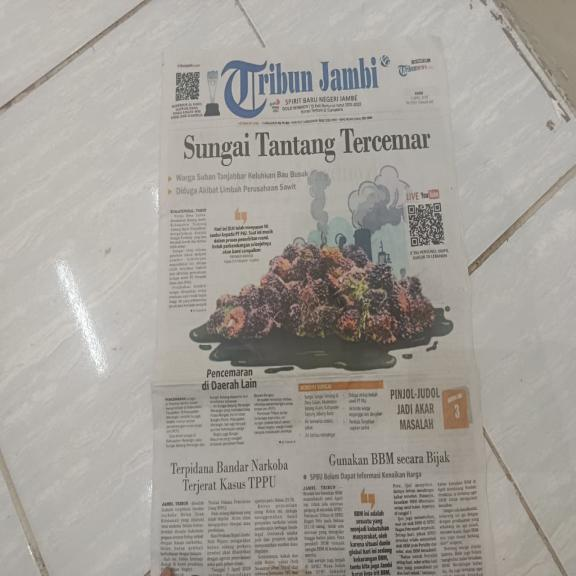Kertas: (158, 40, 470, 386), (159, 379, 490, 574)
